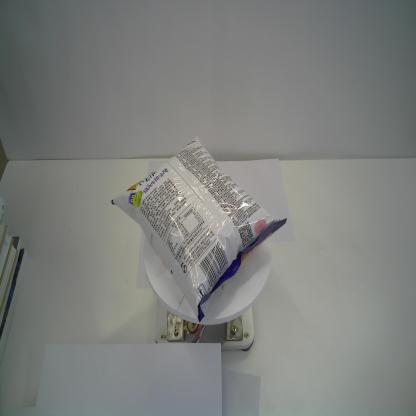Puffed Food: (111, 135, 287, 325)
